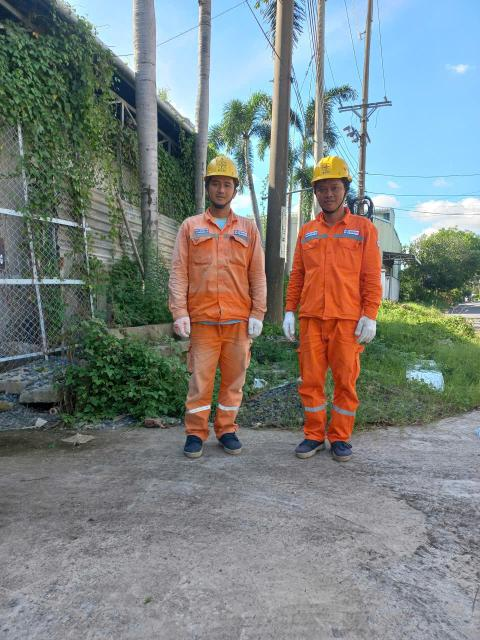gloves: (279, 299, 303, 346), (359, 308, 385, 344), (165, 317, 196, 340), (238, 315, 262, 337)
helmet: (303, 154, 357, 194), (194, 153, 248, 187)
shoes: (283, 428, 326, 468), (217, 424, 248, 463), (322, 428, 356, 463), (178, 426, 205, 460)
